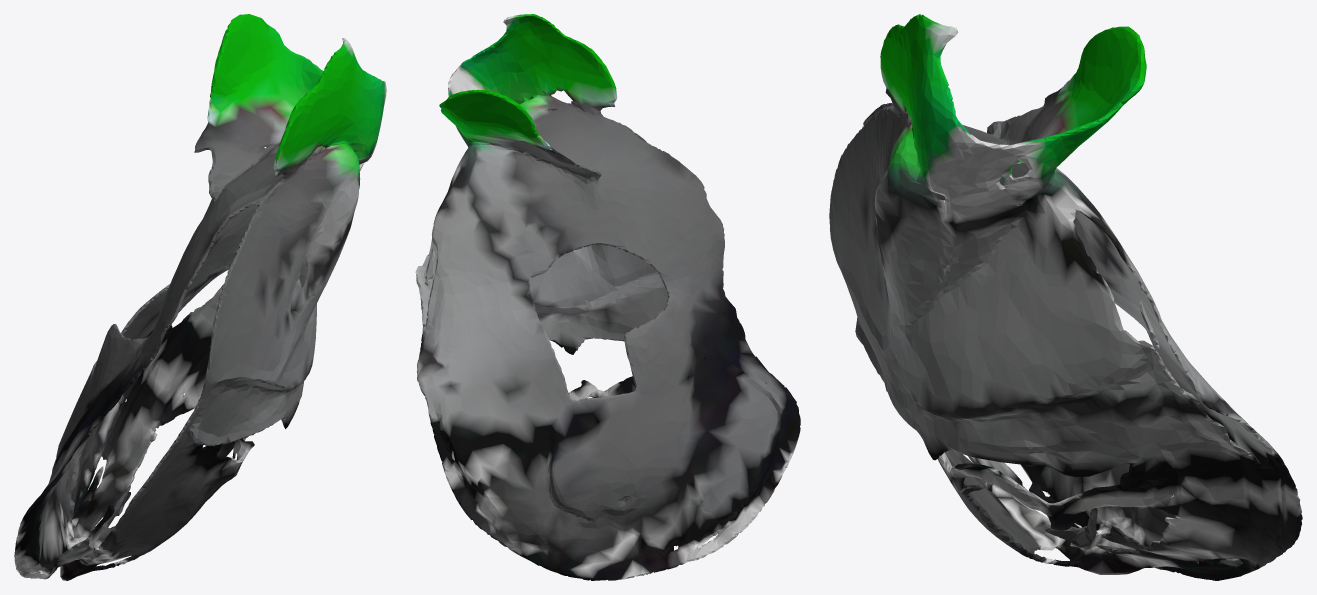
Rendered from lead_fullhelmet.glb.
3 views of the same model, side by side, from view 1: azimuth 30°, elevation 25°; view 2: azimuth 150°, elevation 25°; view 3: azimuth 270°, elevation 25° (orthographic). The views are drawn at different scales.
Visible parts, largest first — view 1: geometry_0; view 2: geometry_0; view 3: geometry_0.
Part boxes in pixels (x1,y1,x2,y2): geometry_0: (14, 14, 386, 580); geometry_0: (415, 14, 800, 580); geometry_0: (829, 14, 1302, 580).
Size of the model in its own units: 0.5625 by 0.7576 by 0.4798.
